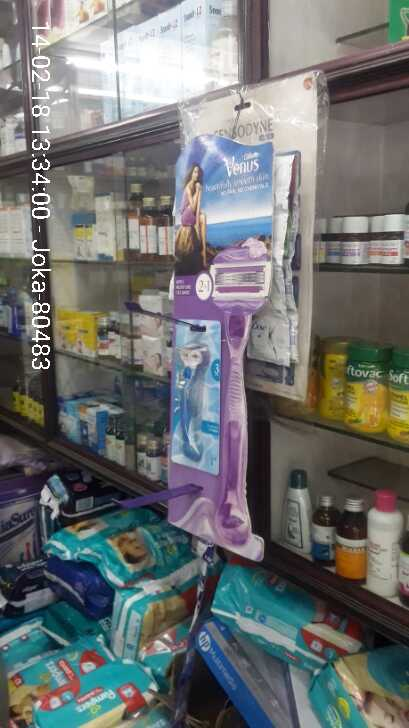beauty: (172, 317, 224, 469)
pharmacy: (216, 568, 372, 674), (37, 656, 162, 725), (16, 637, 119, 708)
